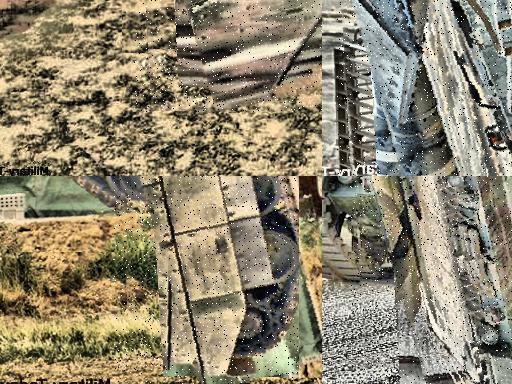tanks: (137, 177, 299, 384), (365, 177, 512, 384), (350, 1, 457, 177), (181, 1, 323, 113), (449, 1, 512, 169)
